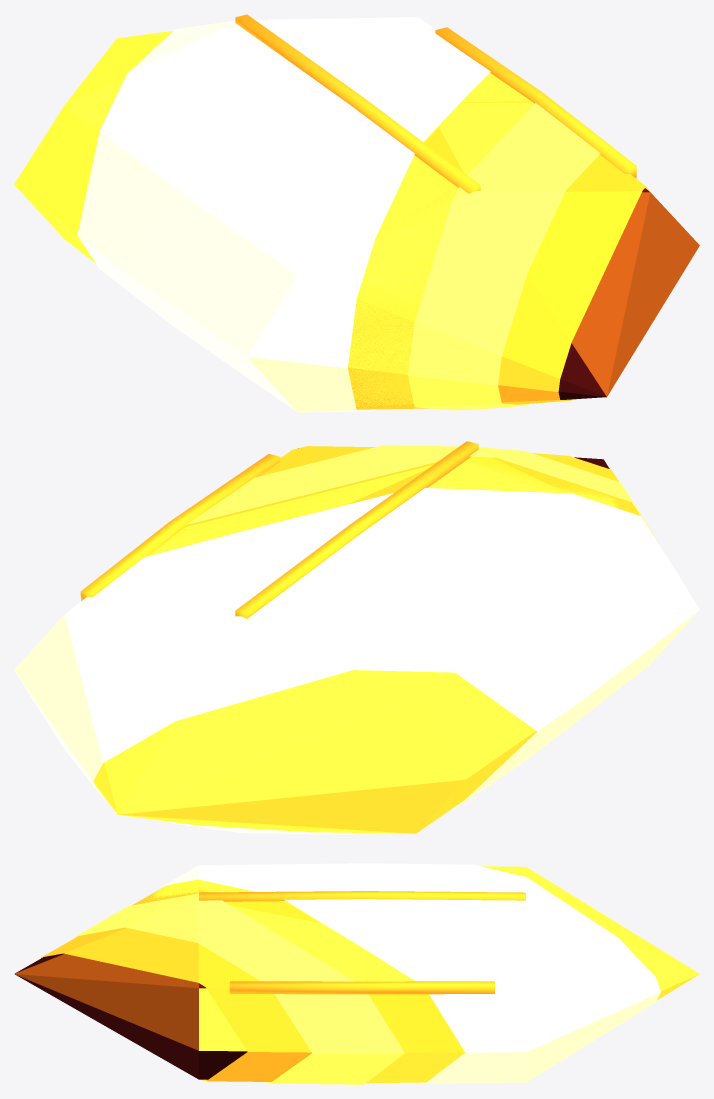
Rendered from tyrian10-39.glb.
3 views of the same model, one above another, from view 1: azimuth 30°, elevation 25°; view 2: azimuth 150°, elevation 25°; view 3: azimuth 270°, elevation 25° (orthographic). The views are drawn at different scales.
Visible parts, largest first — view 1: tyrian10-39_sparkle_49, tyrian10-39_sparkle_47, tyrian10-39_sparkle_45, tyrian10-39_sparkle_41, tyrian10-39_sparkle_43, tyrian10-39, tyrian10-39_glints; view 2: tyrian10-39_sparkle_41, tyrian10-39_sparkle_43, tyrian10-39_sparkle_45, tyrian10-39_sparkle_47, tyrian10-39_sparkle_49, tyrian10-39_glints; view 3: tyrian10-39_sparkle_49, tyrian10-39_sparkle_47, tyrian10-39_sparkle_45, tyrian10-39, tyrian10-39_sparkle_41, tyrian10-39_sparkle_43, tyrian10-39_glints.
Boxes of the visible parts, <box> form: tyrian10-39_sparkle_49: <box>348,99,649,410</box>; tyrian10-39_sparkle_47: <box>258,40,534,412</box>; tyrian10-39_sparkle_45: <box>210,17,490,411</box>; tyrian10-39_sparkle_41: <box>14,20,238,318</box>; tyrian10-39_sparkle_43: <box>143,18,355,365</box>; tyrian10-39: <box>558,188,699,399</box>; tyrian10-39_glints: <box>235,14,636,193</box>; tyrian10-39_sparkle_41: <box>66,616,604,834</box>; tyrian10-39_sparkle_43: <box>40,567,665,806</box>; tyrian10-39_sparkle_45: <box>14,522,699,758</box>; tyrian10-39_sparkle_47: <box>14,458,690,703</box>; tyrian10-39_sparkle_49: <box>164,445,657,544</box>; tyrian10-39_glints: <box>80,441,478,618</box>; tyrian10-39_sparkle_49: <box>41,887,463,1084</box>; tyrian10-39_sparkle_47: <box>146,865,540,1083</box>; tyrian10-39_sparkle_45: <box>164,864,570,1082</box>; tyrian10-39: <box>14,953,247,1079</box>; tyrian10-39_sparkle_41: <box>380,863,699,1033</box>; tyrian10-39_sparkle_43: <box>289,863,615,1064</box>; tyrian10-39_glints: <box>199,891,525,994</box>.
Bounding box in the file's own units: 1.02 × 0.4738 × 1.85.
